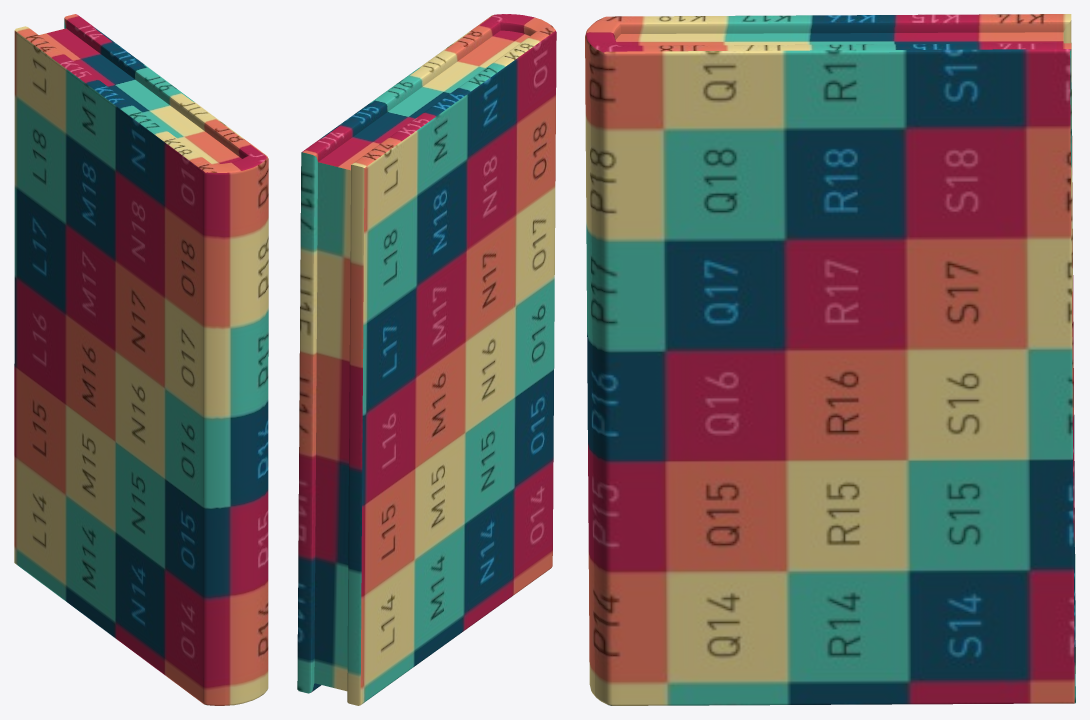
File: book_5.fbx
3 views of the same model, side by side, from view 1: azimuth 30°, elevation 25°; view 2: azimuth 150°, elevation 25°; view 3: azimuth 270°, elevation 25° (orthographic). The views are drawn at different scales.
Visible parts, largest first — view 1: book_5; view 2: book_5; view 3: book_5.
Part boxes in pixels (x1,y1,x2,y2): book_5: (14,14,268,705); book_5: (297,14,556,705); book_5: (585,14,1075,705).
Size of the model in its own units: 2.71 by 20.88 by 14.16.
